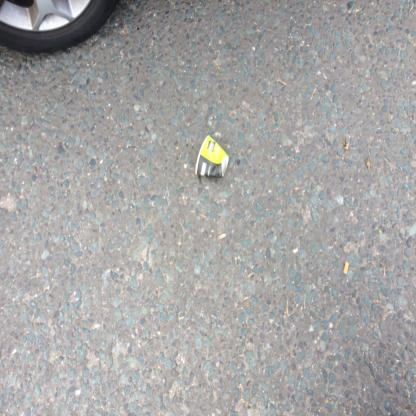Paper: (195, 135, 229, 177)
